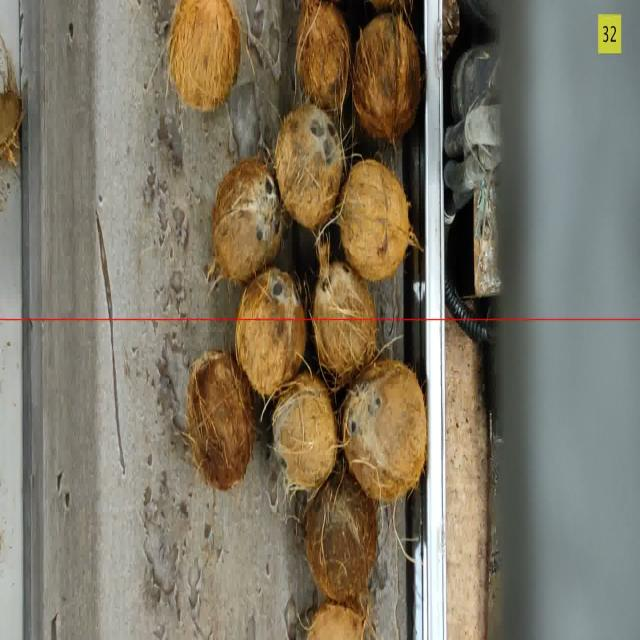Coconut-Conveyor-Belt: (348, 360, 424, 500), (187, 351, 255, 492), (340, 159, 414, 280), (351, 13, 422, 139), (236, 271, 304, 400), (308, 466, 373, 597), (211, 164, 280, 280), (313, 258, 375, 386), (170, 1, 236, 111), (278, 114, 346, 220), (274, 378, 335, 494), (298, 2, 349, 117), (304, 603, 369, 640)
